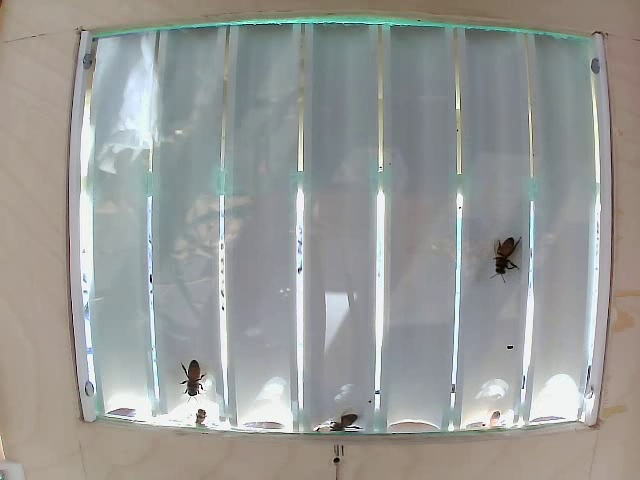bee: (181, 346, 217, 387), (485, 226, 510, 274)
